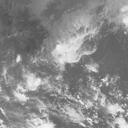cyclone: (36, 25, 86, 72)
